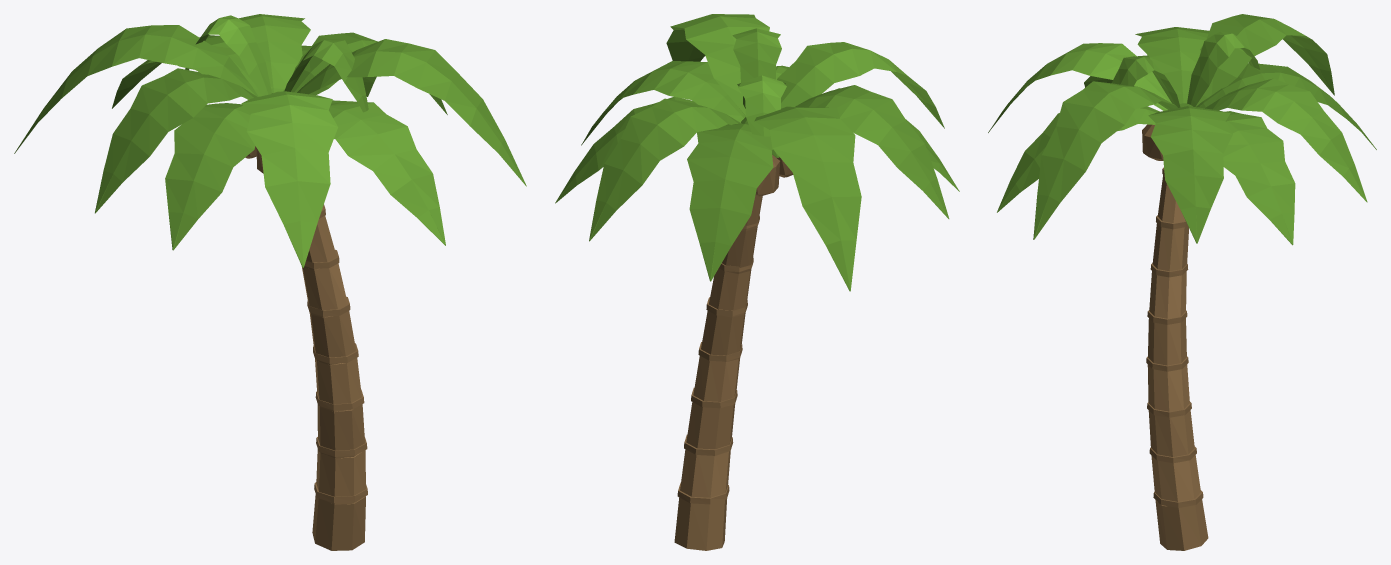
The model's file is 06_coconut_palm.glb.
3 renders of one model, left to right at view 1: azimuth 30°, elevation 25°; view 2: azimuth 150°, elevation 25°; view 3: azimuth 270°, elevation 25°, orthographic. The views are drawn at different scales.
Parts seen in each view (by area): view 1: 06_coconut_palm; view 2: 06_coconut_palm; view 3: 06_coconut_palm.
Part boxes in pixels (bbox=[...]): 06_coconut_palm: bbox=[14, 14, 526, 550]; 06_coconut_palm: bbox=[555, 14, 959, 550]; 06_coconut_palm: bbox=[988, 14, 1376, 550].
Size of the model in its own units: 2.65 by 3.63 by 2.72.
